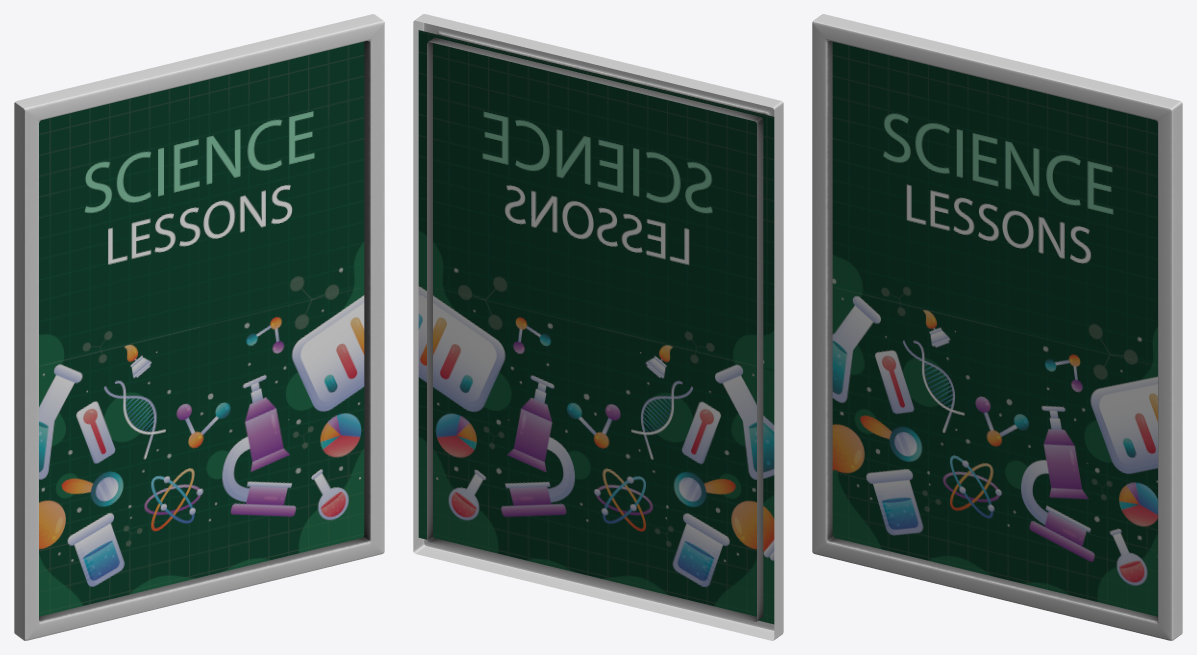
Rendered from posters_v03.fbx.
3 renders of one model, left to right at view 1: azimuth 30°, elevation 25°; view 2: azimuth 150°, elevation 25°; view 3: azimuth 330°, elevation 25°, orthographic.
Parts seen in each view (by area): view 1: posters_MSH3; view 2: posters_MSH3; view 3: posters_MSH3.
Boxes of the visible parts, box(x1,y1,x2,y2) form: posters_MSH3: box(14, 14, 384, 640); posters_MSH3: box(413, 14, 783, 640); posters_MSH3: box(812, 14, 1182, 640).
Bounding box in the file's own units: 99.99 × 141 × 5.81.
1 material, 1 textured.
